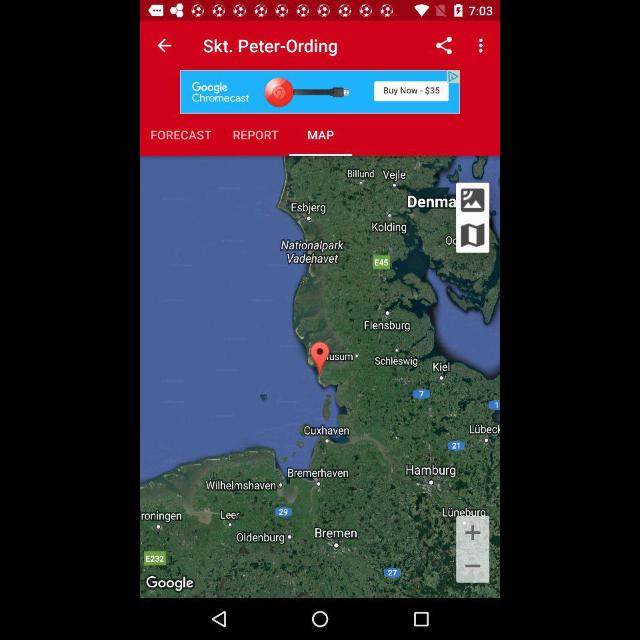icon: (310, 608, 330, 628), (434, 35, 456, 53), (154, 34, 173, 54), (211, 610, 227, 626), (414, 611, 428, 627), (475, 35, 485, 55)
iframe: (181, 70, 459, 114)
map: (142, 157, 498, 597)
multitab: (142, 112, 500, 156)
panel: (141, 598, 499, 638)
text: (202, 38, 340, 56)
toolbar: (142, 22, 500, 68)
uppertaskbar: (140, 0, 500, 20)
